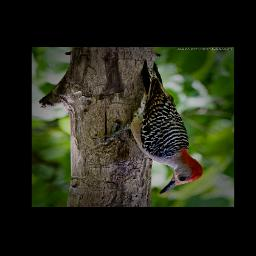Woodpecker: (89, 60, 211, 197)
